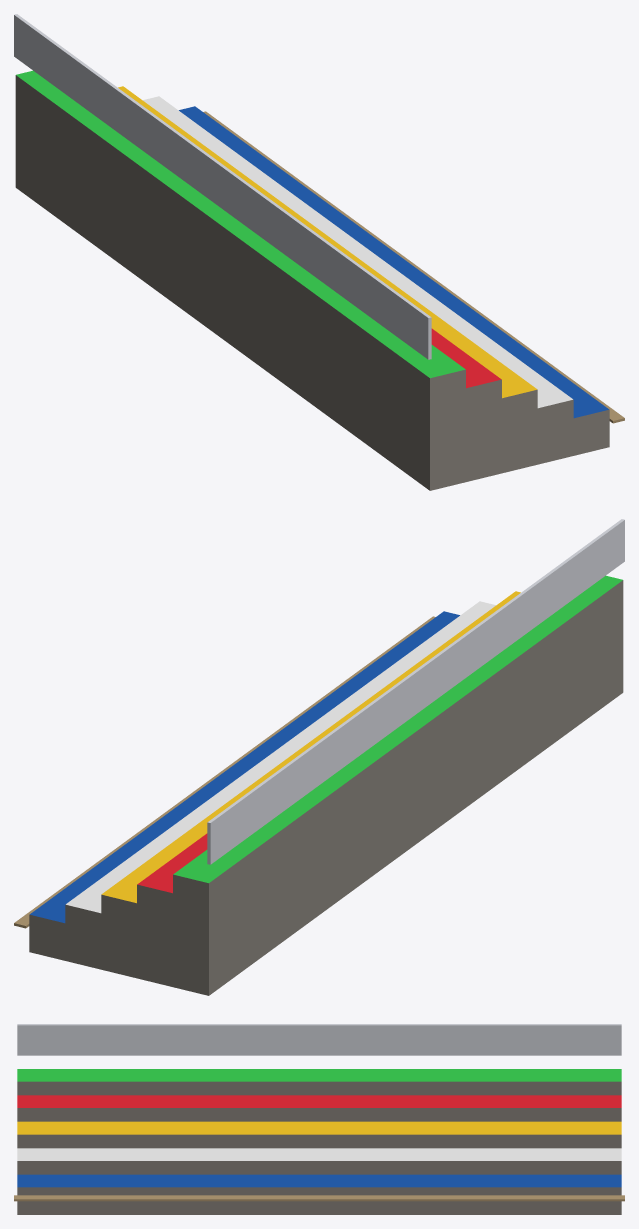
The model's file is graderia_poli.obj.
The picture shows the model from 3 angles, top to bottom: view 1: azimuth 30°, elevation 25°; view 2: azimuth 150°, elevation 25°; view 3: azimuth 270°, elevation 25°; orthographic projection. The views are drawn at different scales.
Visible parts, largest first — view 1: graderia_poli; view 2: graderia_poli; view 3: graderia_poli.
Boxes of the visible parts, x1,y1,x2,y2 form: graderia_poli: [14, 14, 624, 490]; graderia_poli: [14, 519, 624, 995]; graderia_poli: [14, 1024, 624, 1214].
Bounding box in the file's own units: 4.87 × 4.15 × 18.2.
